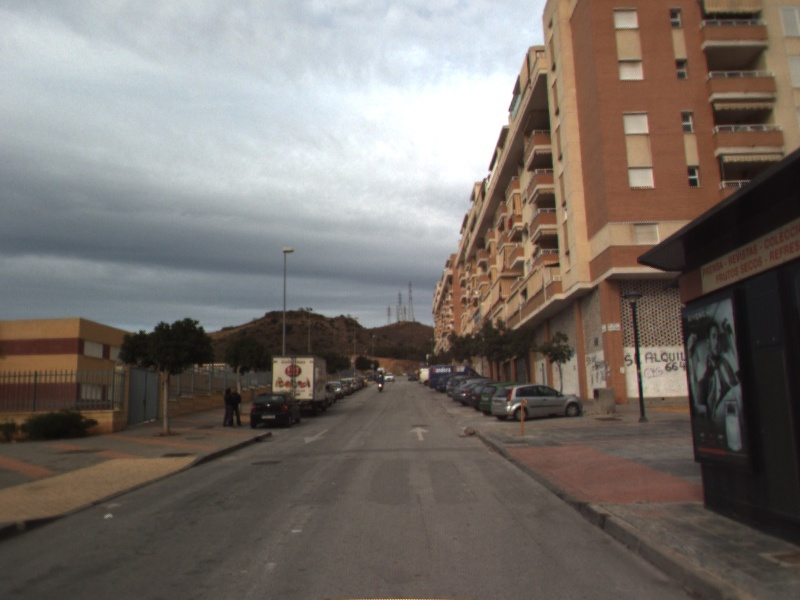STRAIGHT: (408, 424, 432, 442)
